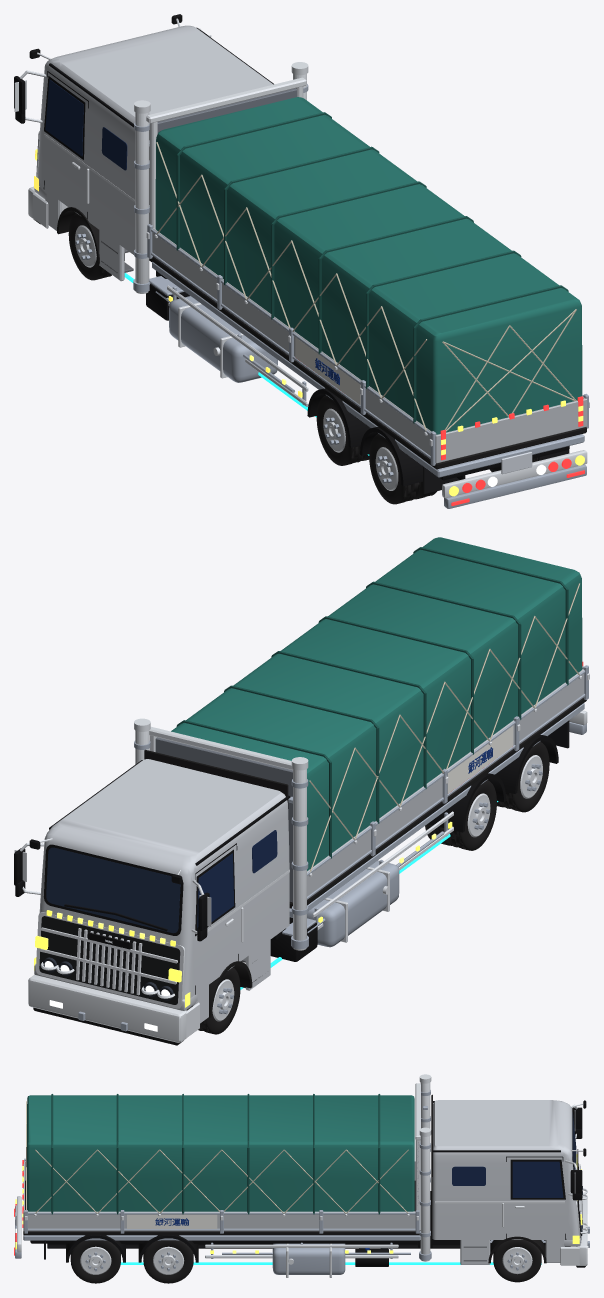
The model's file is dekotora_truck_tarp.glb.
The picture shows the model from 3 angles, top to bottom: view 1: azimuth 30°, elevation 25°; view 2: azimuth 150°, elevation 25°; view 3: azimuth 270°, elevation 25°; orthographic projection. The views are drawn at different scales.
Visible parts, largest first — view 1: truck_tarp, truck_paint_white_panel, truck_steel, truck_chrome, truck_box_alu, truck_tarp_dark, truck_plastic_black, truck_rope, truck_plastic_trim, truck_glass, wheel_r_L_1.5_1.06, wheel_r_L_3.0_1.06 (+5 smaller); view 2: truck_tarp, truck_paint_white_panel, truck_chrome, truck_steel, truck_plastic_black, truck_glass_wind, truck_tarp_dark, truck_vent_slots, truck_box_alu, truck_plastic_trim, truck_mesh_perf, truck_rope (+6 smaller); view 3: truck_tarp, truck_paint_white_panel, truck_steel, truck_chrome, truck_box_alu, truck_plastic_black, truck_plastic_trim, truck_glass, truck_tarp_dark, wheel_r_R_3.0_1.06, wheel_r_R_1.5_1.06, wheel_f_R (+3 smaller).
Part boxes in pixels (x1,y1,x2,y2): truck_tarp: (155,97,582,434); truck_paint_white_panel: (34,25,273,281); truck_steel: (133,84,588,508); truck_chrome: (14,18,589,498); truck_box_alu: (152,228,587,463); truck_tarp_dark: (176,112,568,423); truck_plastic_black: (14,14,569,486); truck_rope: (156,142,576,431); truck_plastic_trim: (57,130,586,469); truck_glass: (45,79,127,170); wheel_r_L_1.5_1.06: (369,433,420,504); wheel_r_L_3.0_1.06: (316,395,365,465); truck_tarp: (171,537,582,870); truck_paint_white_panel: (34,759,289,1023); truck_chrome: (14,673,589,1042); truck_steel: (78,665,588,1031); truck_plastic_black: (14,735,558,1045); truck_glass_wind: (46,847,180,933); truck_tarp_dark: (176,547,568,858); truck_vent_slots: (39,916,180,1004); truck_box_alu: (307,666,584,896); truck_plastic_trim: (144,697,586,1017); truck_mesh_perf: (155,737,292,902); truck_rope: (309,583,580,872); truck_tarp: (27,1095,414,1211); truck_paint_white_panel: (432,1100,580,1264); truck_steel: (15,1090,589,1274); truck_chrome: (17,1074,587,1277); truck_box_alu: (23,1161,415,1231); truck_plastic_black: (30,1100,586,1267); truck_plastic_trim: (23,1094,546,1263); truck_glass: (452,1161,563,1197); truck_tarp_dark: (51,1094,380,1214); wheel_r_R_3.0_1.06: (143,1240,193,1283); wheel_r_R_1.5_1.06: (70,1240,120,1283); wheel_f_R: (493,1240,541,1282).
Bounding box in the file's own units: 3.24 × 3.55 × 11.89.
26 materials, 7 textured.
